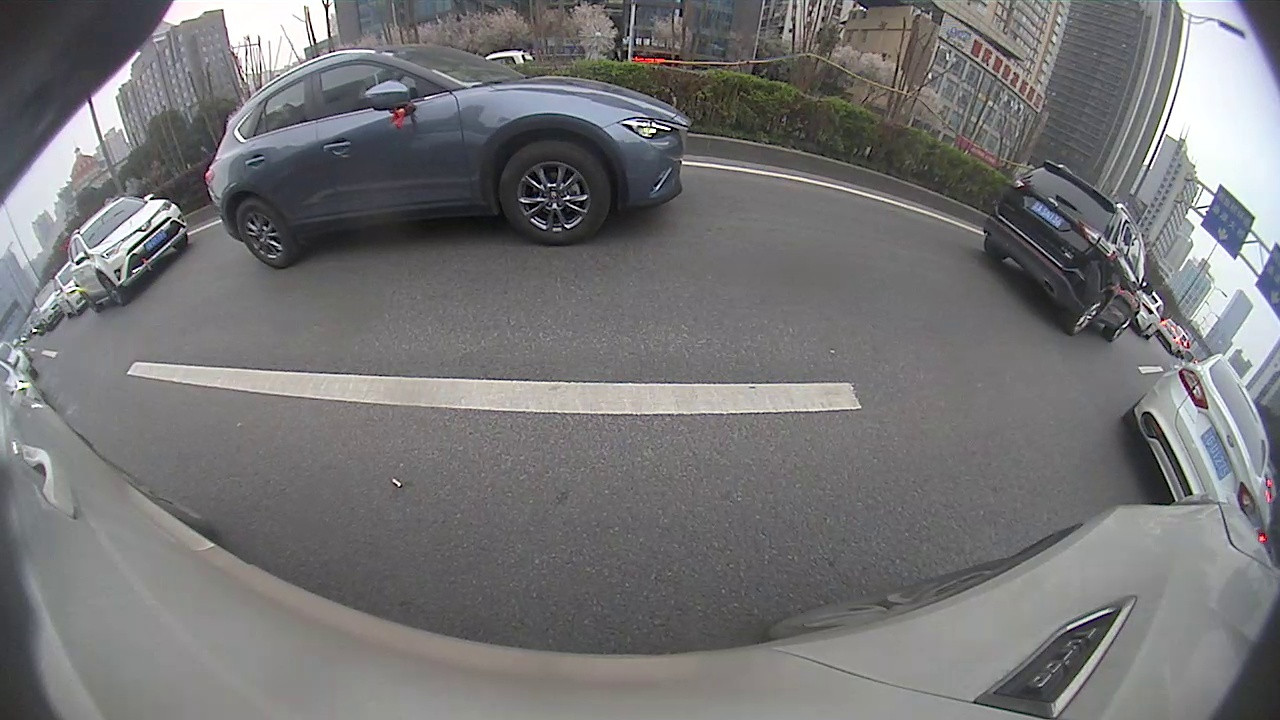car: (204, 43, 691, 270), (981, 157, 1154, 343), (1120, 353, 1272, 530), (66, 192, 190, 313)
front: (500, 141, 610, 246), (97, 273, 125, 306)
rear: (233, 196, 292, 267), (1068, 297, 1109, 336)
